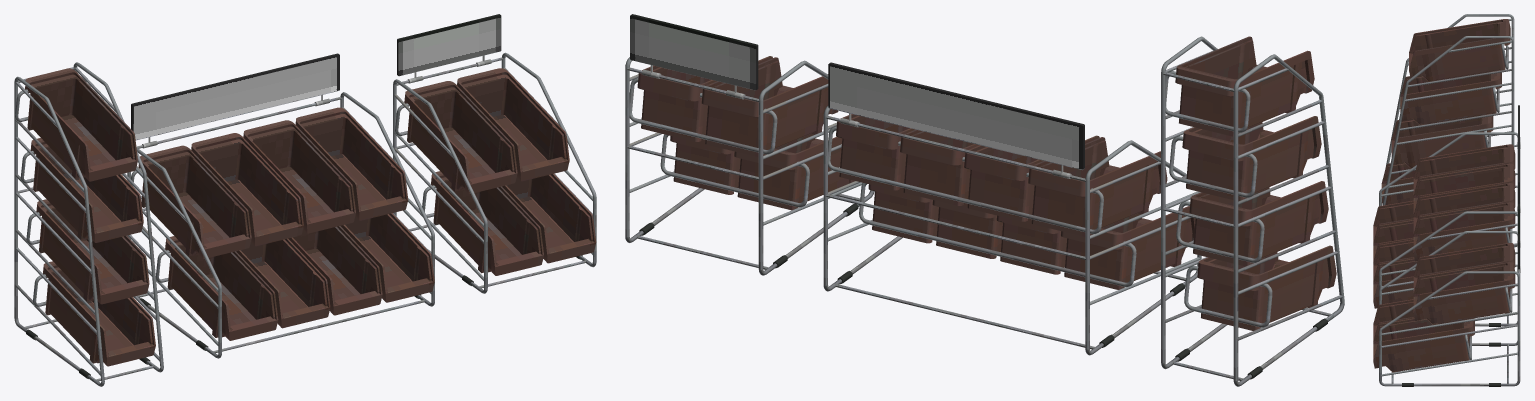
The model's file is 181_CutleryBox.fbx.
3 views of the same model, side by side, from view 1: azimuth 30°, elevation 25°; view 2: azimuth 150°, elevation 25°; view 3: azimuth 270°, elevation 25° (orthographic). The views are drawn at different scales.
Parts seen in each view (by area): view 1: LOD_1_Group_0_Sub_1__sm30_181_CutleryBox01A_A_Mat; view 2: LOD_1_Group_0_Sub_1__sm30_181_CutleryBox01A_A_Mat; view 3: LOD_1_Group_0_Sub_1__sm30_181_CutleryBox01A_A_Mat.
Boxes of the visible parts, left/top/right/bottom form: LOD_1_Group_0_Sub_1__sm30_181_CutleryBox01A_A_Mat: left=14, top=14, right=596, bottom=386; LOD_1_Group_0_Sub_1__sm30_181_CutleryBox01A_A_Mat: left=625, top=14, right=1344, bottom=386; LOD_1_Group_0_Sub_1__sm30_181_CutleryBox01A_A_Mat: left=1373, top=14, right=1520, bottom=386.
Size of the model in its own units: 1.01 by 0.483 by 0.3381.
